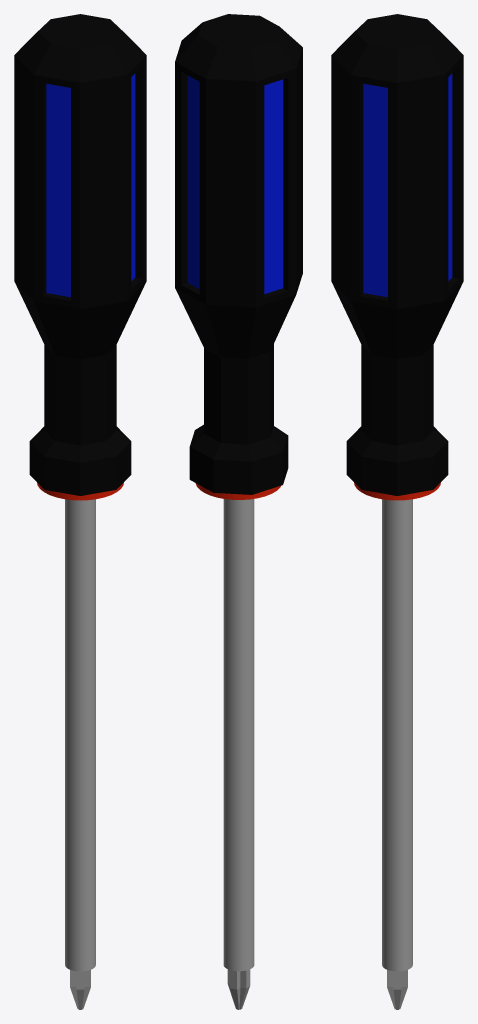
Rendered from Shadow_Driver.fbx.
3 renders of one model, left to right at view 1: azimuth 90°, elevation 25°; view 2: azimuth 150°, elevation 25°; view 3: azimuth 270°, elevation 25°, orthographic.
Parts seen in each view (by area): view 1: Cylinder; view 2: Cylinder; view 3: Cylinder.
Boxes of the visible parts, x1,y1,x2,y2 form: Cylinder: (14,14,146,1009); Cylinder: (175,14,302,1009); Cylinder: (331,14,463,1009).
Size of the model in its own units: 215 by 1748 by 215.
